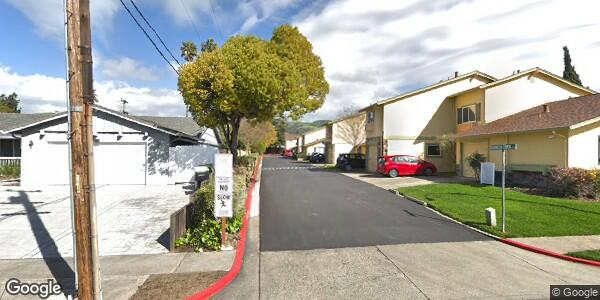Wood_Pole: (58, 1, 105, 300)
